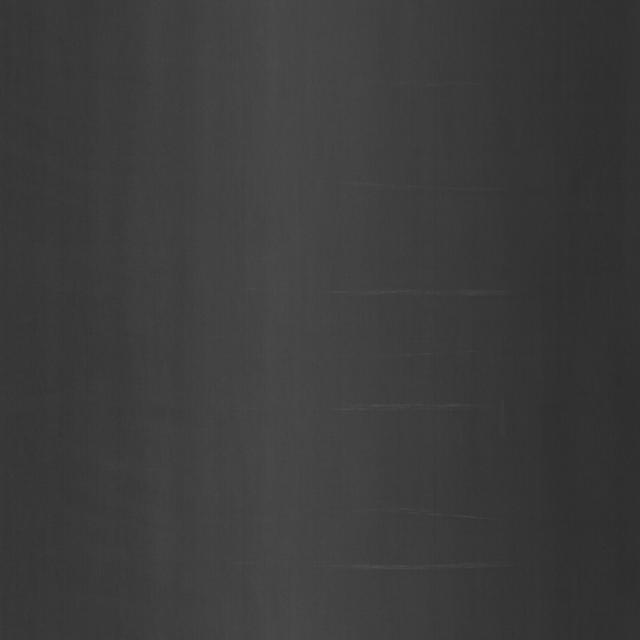punching_hole: (318, 66, 516, 605)
